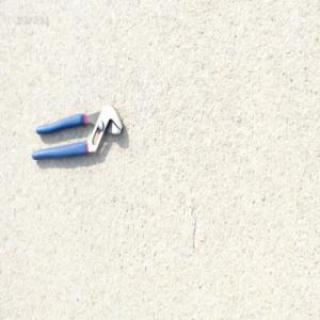Pliertrack_idkeyframe: (29, 103, 123, 162)
